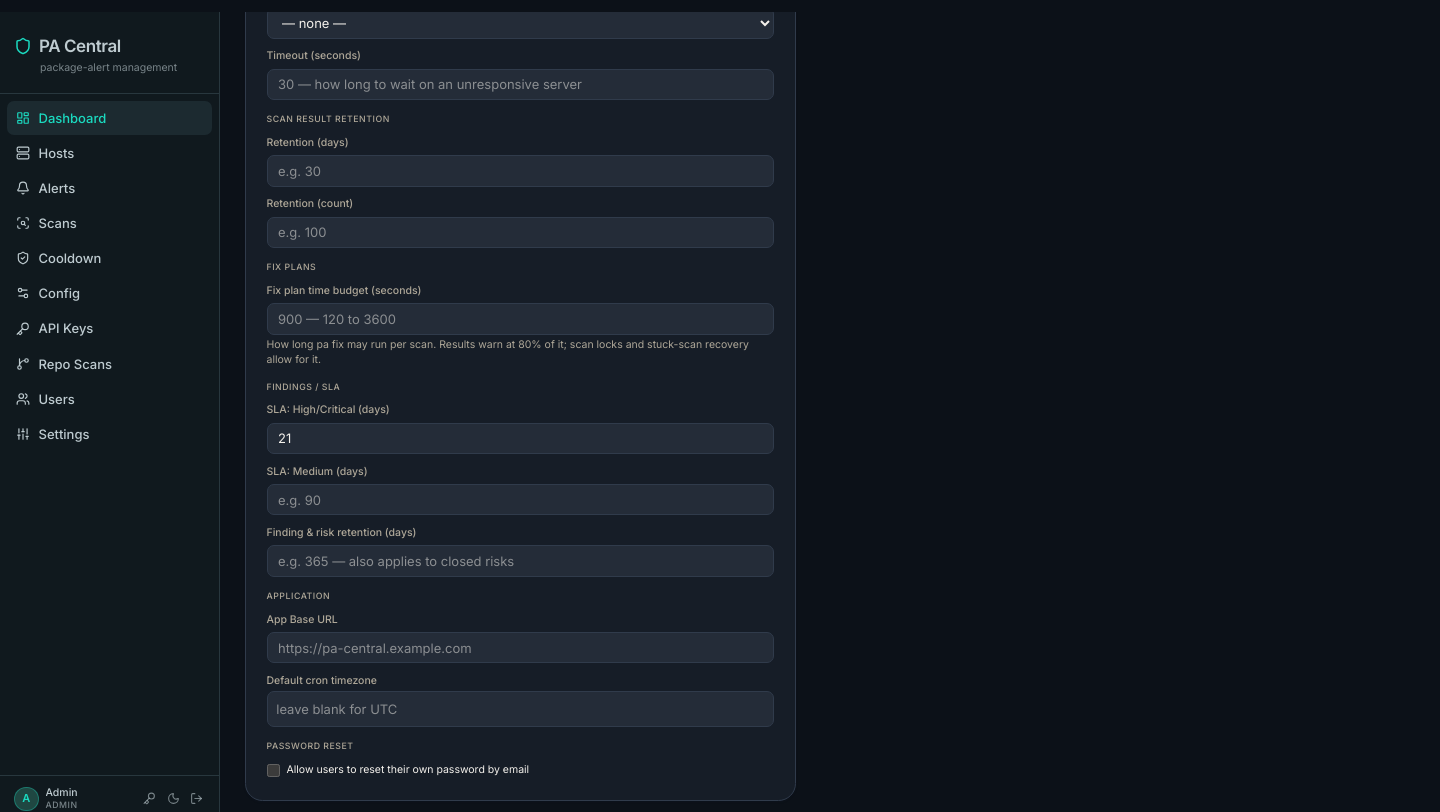
SystemSettings — synthesized runtime defaults › shows the synthesized default immediately after clearing a saved value, without a reload
The width and height of the screenshot is (1440, 812).
(page scrolled)
Clear the number field labelled "SLA: High/Critical (days)" at (520, 438), box top-left (266, 423), bottom-right (774, 454)
(page scrolled)
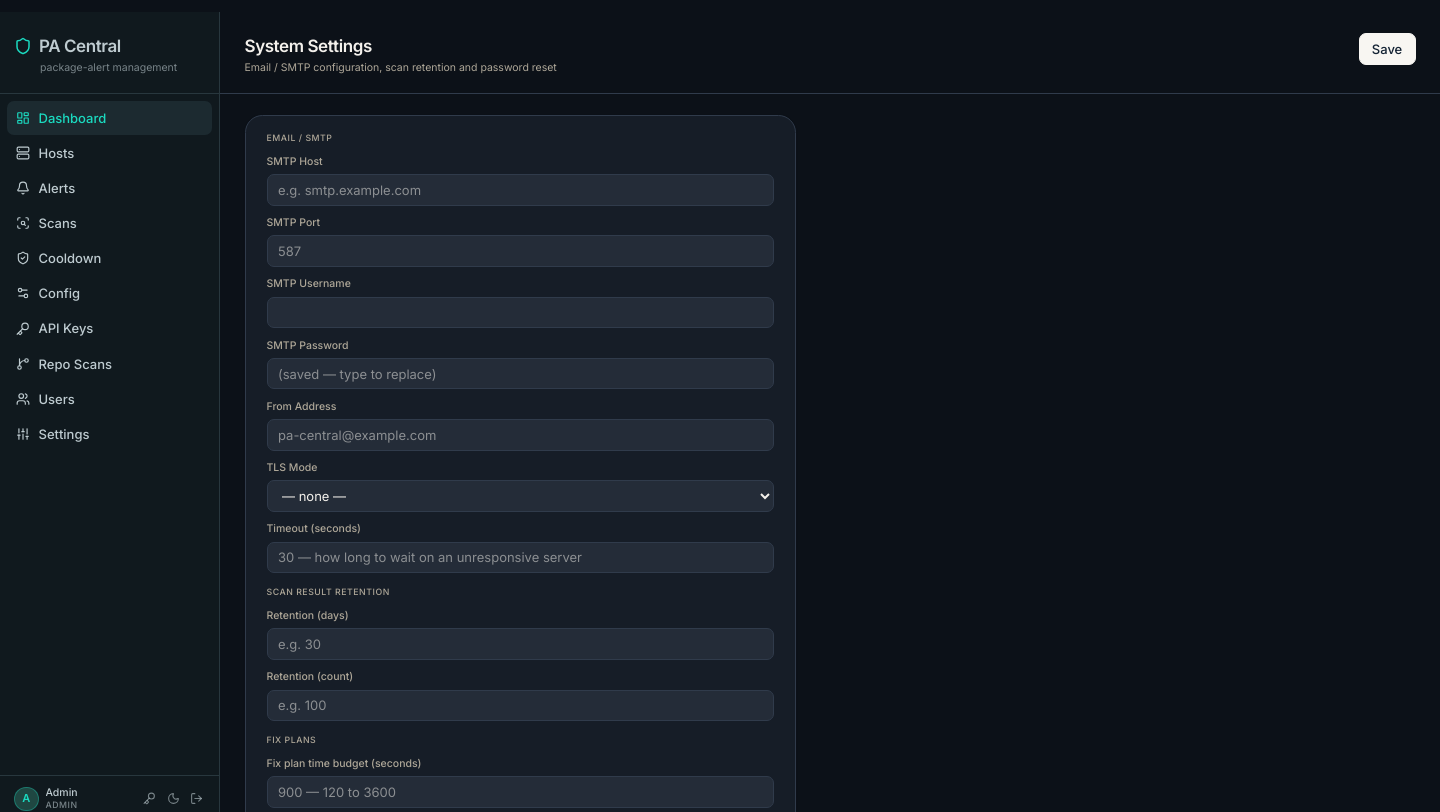
Click the button "Save" at (1387, 49), box top-left (1358, 33), bottom-right (1416, 64)
(page scrolled)
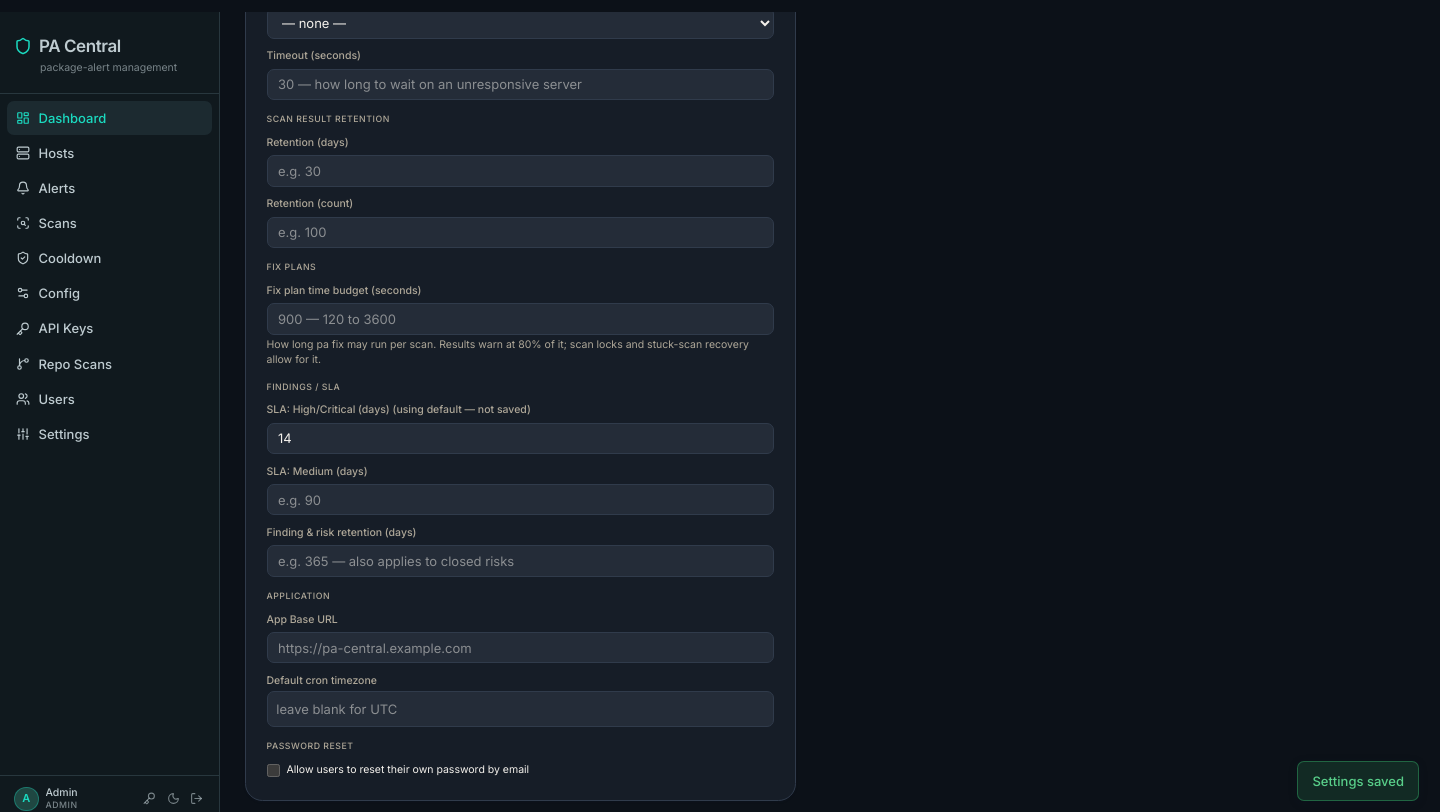
expect the number field labelled "SLA: High/Critical (days) (using default — not saved)" holds "14": met, box top-left (266, 423), bottom-right (774, 454)
